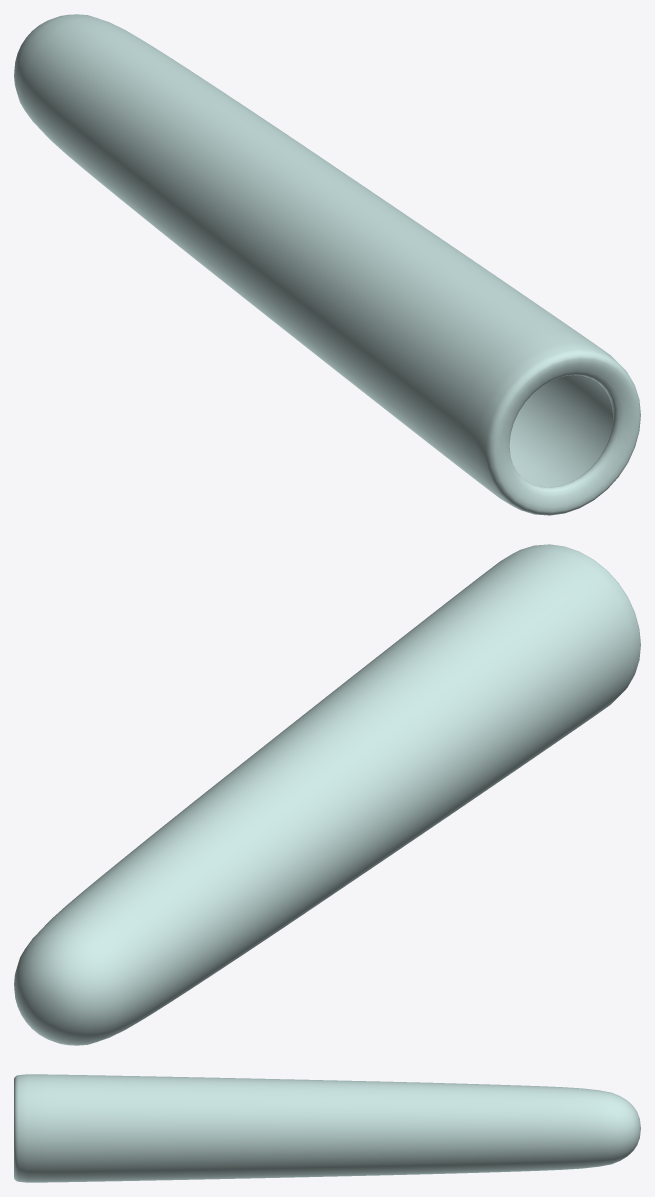
The model's file is pyrosome_game.glb.
3 renders of one model, top to bottom at view 1: azimuth 30°, elevation 25°; view 2: azimuth 150°, elevation 25°; view 3: azimuth 270°, elevation 25°, orthographic. The views are drawn at different scales.
Visible parts, largest first — view 1: pyrosome_game; view 2: pyrosome_game; view 3: pyrosome_game.
Boxes of the visible parts, bbox=[...] form: pyrosome_game: bbox=[14, 14, 640, 515]; pyrosome_game: bbox=[14, 544, 640, 1045]; pyrosome_game: bbox=[14, 1074, 640, 1182].
Bounding box in the file's own units: 0.3467 × 0.3467 × 2.
